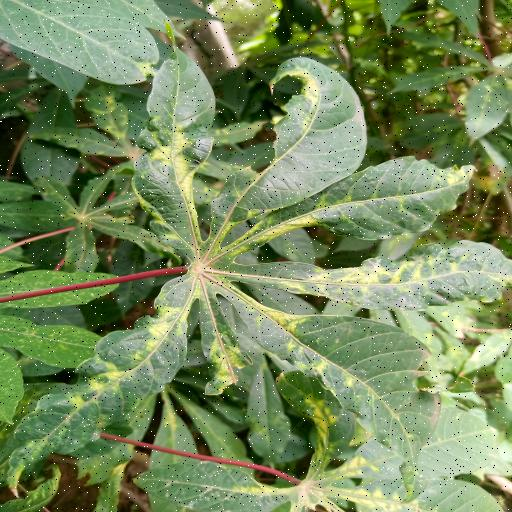Cassava_Mosaic: (9, 56, 512, 477)
